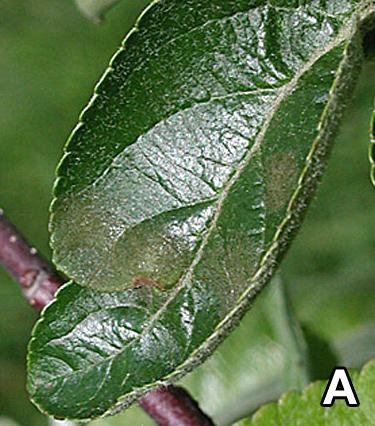Apple Scab Leaf: (24, 3, 375, 418)
